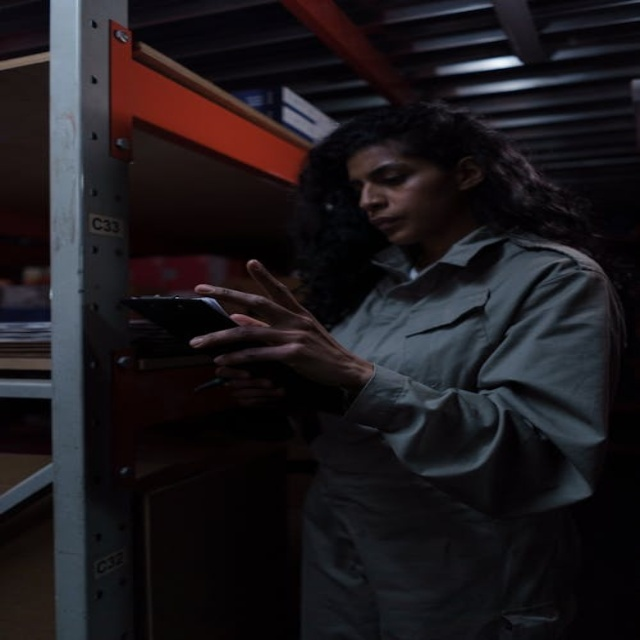Sin_gafas: (347, 158, 417, 195)
Sin_guantes: (186, 253, 388, 398)
Sin_mascara: (366, 207, 422, 244)
